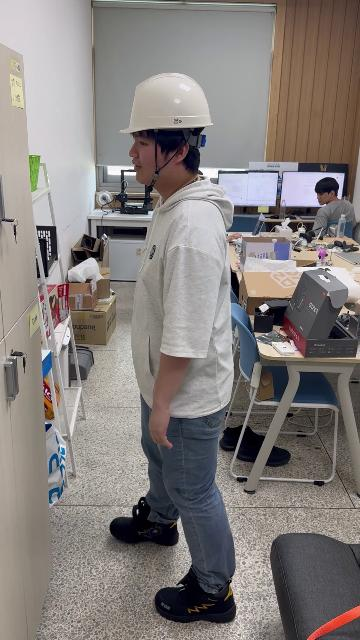helmet_worn: (118, 72, 215, 149)
shoe_not_worn: (221, 423, 288, 464), (219, 424, 252, 452)
shoe_worn: (155, 568, 235, 623), (110, 495, 180, 545)
vest_not_worn: (139, 189, 236, 405)
